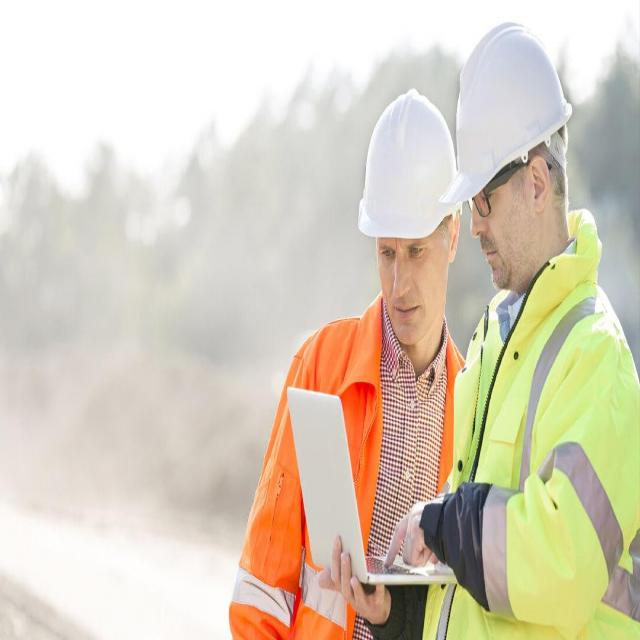Reflective-Jacket: (428, 260, 640, 640), (234, 307, 461, 634)
Safety-Helmet: (447, 21, 573, 213), (354, 85, 459, 248)
